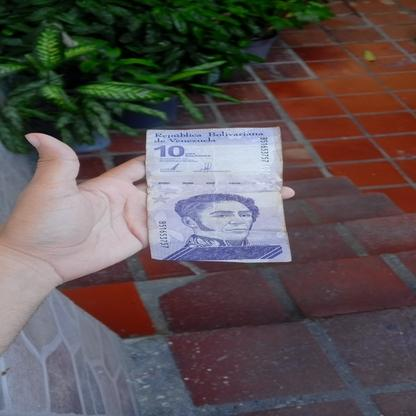ten-front-vef: (146, 127, 290, 264)
